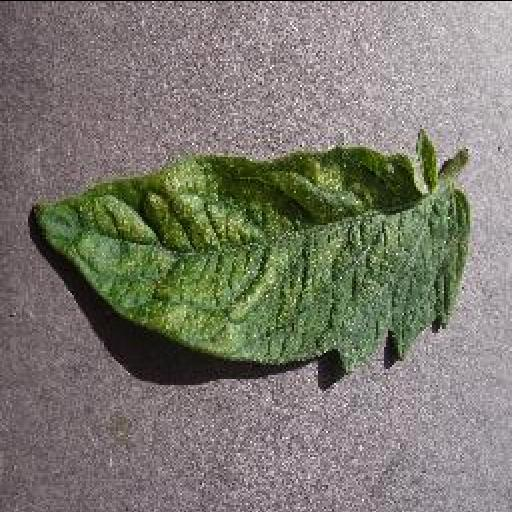disease_tomato: (30, 144, 470, 369)
